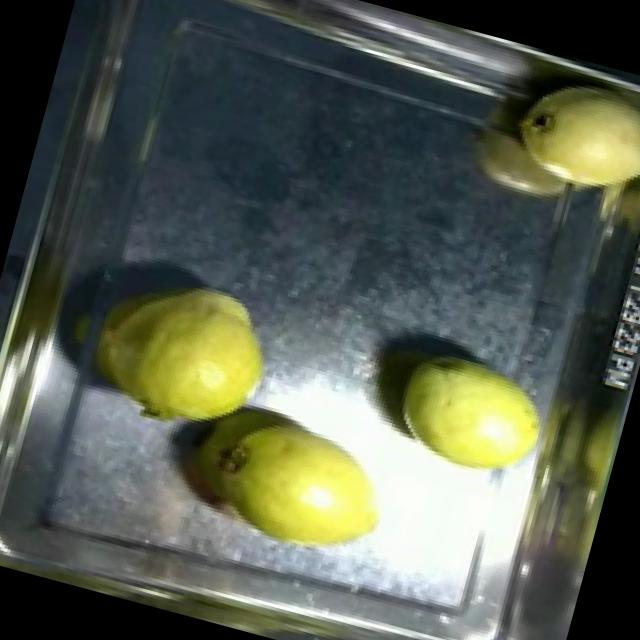Fruit: (151, 384, 409, 576), (71, 251, 292, 454), (378, 330, 570, 498), (489, 47, 640, 229)
